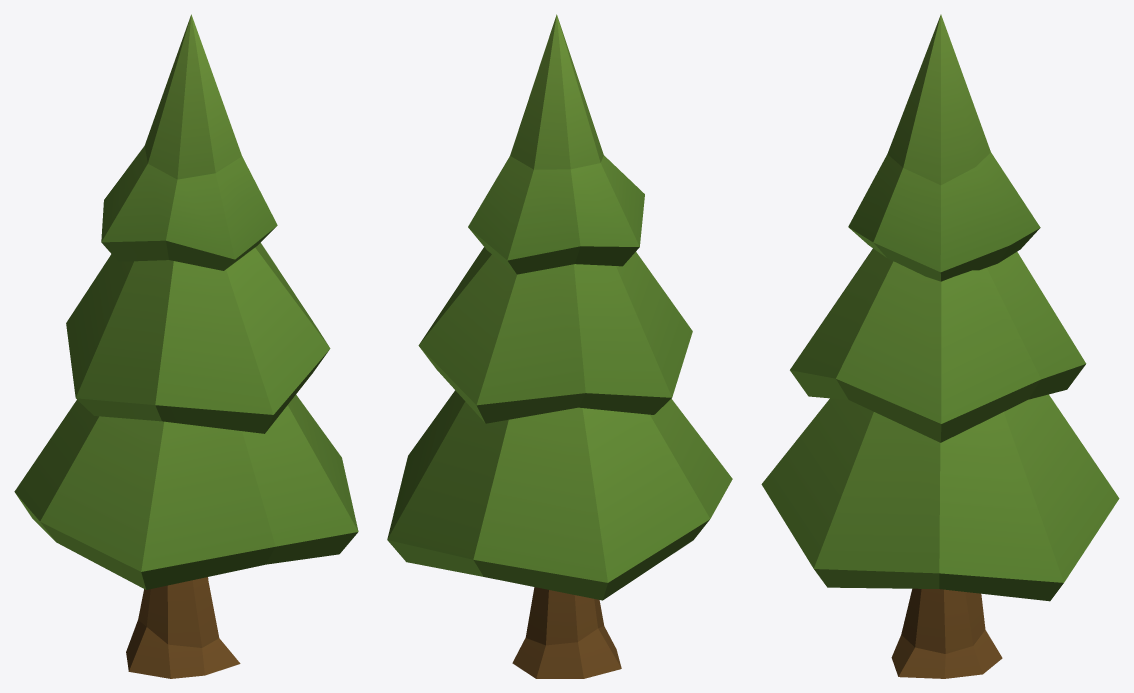
Rendered from Tree_Spruce_tiny_01.fbx.
3 renders of one model, left to right at view 1: azimuth 30°, elevation 25°; view 2: azimuth 150°, elevation 25°; view 3: azimuth 270°, elevation 25°, orthographic.
Visible parts, largest first — view 1: Tree_Spruce_tiny_01; view 2: Tree_Spruce_tiny_01; view 3: Tree_Spruce_tiny_01.
Part boxes in pixels (box(x1,y1,x2,y2)): Tree_Spruce_tiny_01: box(14, 14, 358, 678); Tree_Spruce_tiny_01: box(387, 14, 732, 678); Tree_Spruce_tiny_01: box(761, 14, 1119, 678).
Bounding box in the file's own units: 5.43 × 11.01 × 5.5.
